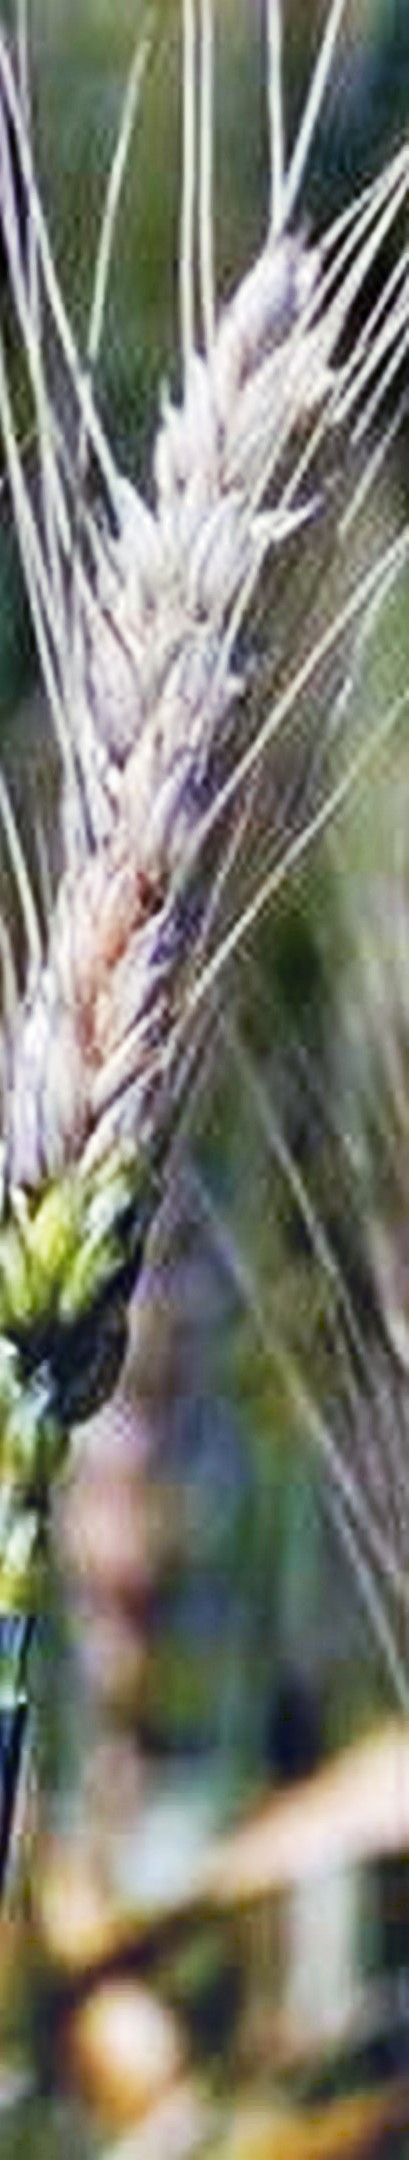Wheat scab: (17, 247, 388, 1362)
